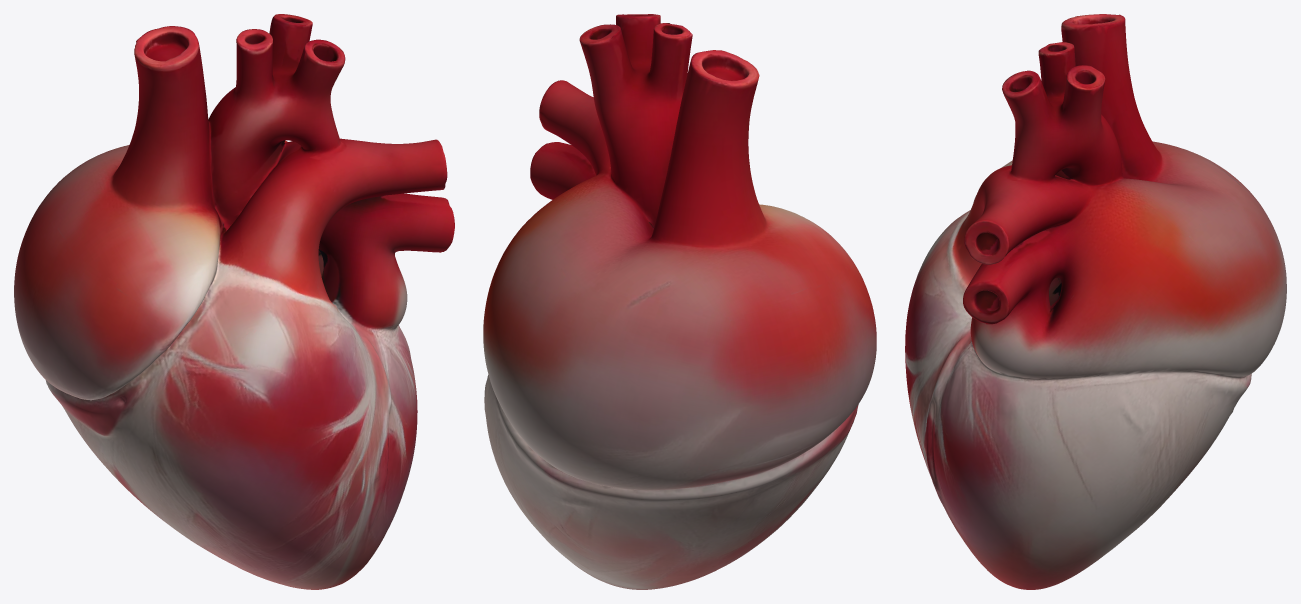
The model's file is heart_diastole.glb.
3 renders of one model, left to right at view 1: azimuth 30°, elevation 25°; view 2: azimuth 150°, elevation 25°; view 3: azimuth 270°, elevation 25°, orthographic. The views are drawn at different scales.
Parts seen in each view (by area): view 1: model; view 2: model; view 3: model.
Part boxes in pixels (box(x1,y1,x2,y2)): model: box(14, 14, 454, 589); model: box(483, 14, 876, 589); model: box(905, 14, 1286, 589).
Bounding box in the file's own units: 1.27 × 1.9 × 1.27.
Materials: 1 (1 with a texture image).
